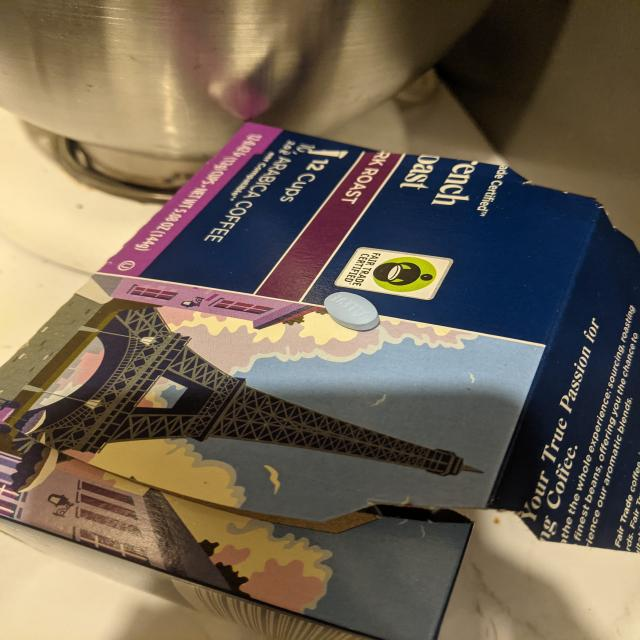non-organic waste: (323, 291, 382, 332)
